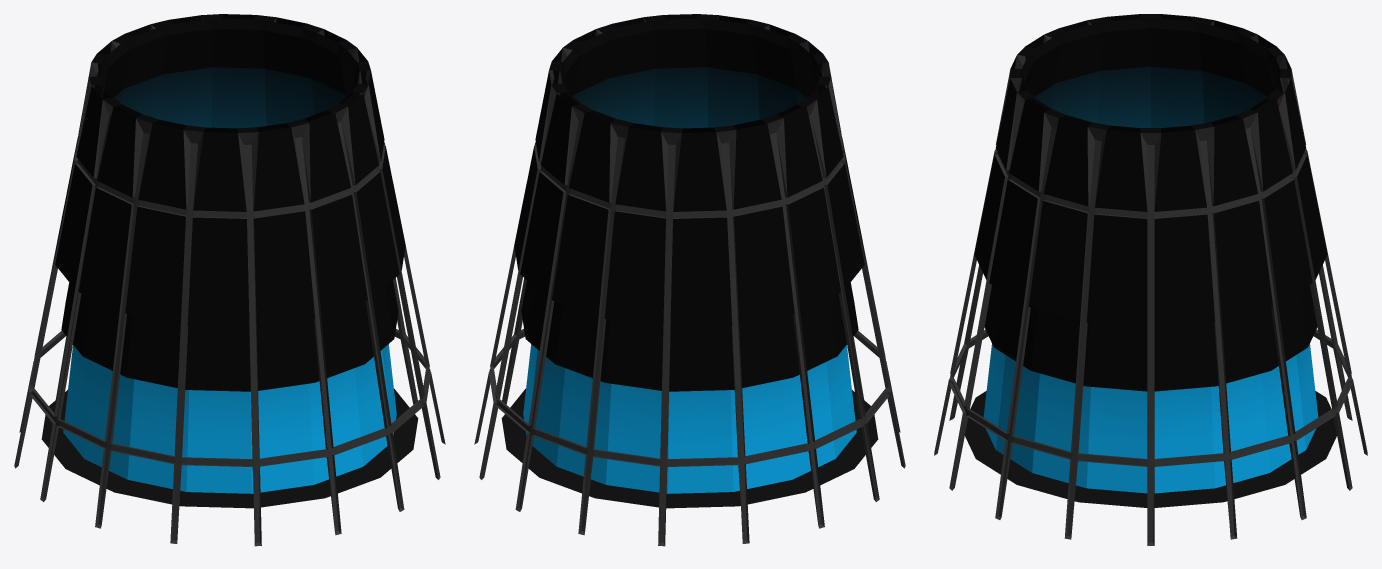
File: PenSheQi_WeiPen_2X2_on2.FBX
3 renders of one model, left to right at view 1: azimuth 30°, elevation 25°; view 2: azimuth 150°, elevation 25°; view 3: azimuth 270°, elevation 25°, orthographic.
Parts seen in each view (by area): view 1: Box002; view 2: Box002; view 3: Box002.
Part boxes in pixels (x1,y1,x2,y2): Box002: [14, 14, 445, 546]; Box002: [474, 14, 905, 546]; Box002: [934, 14, 1367, 545].
Bounding box in the file's own units: 1.99 × 2 × 1.99.
